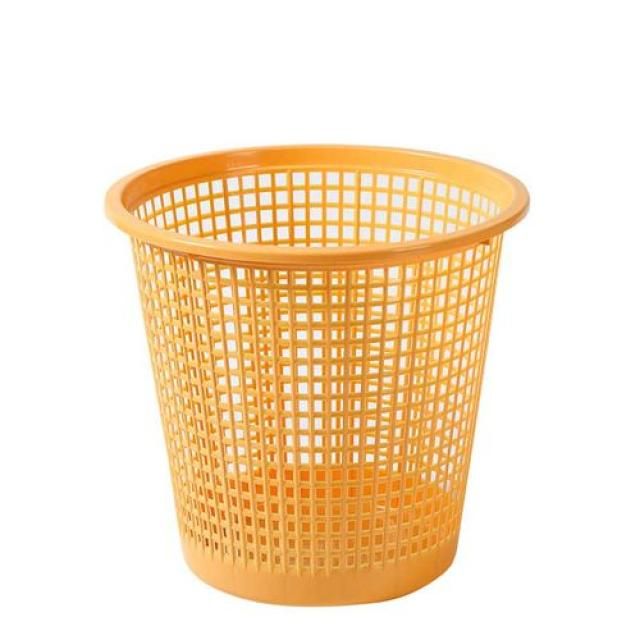dustbin: (100, 135, 535, 614)
